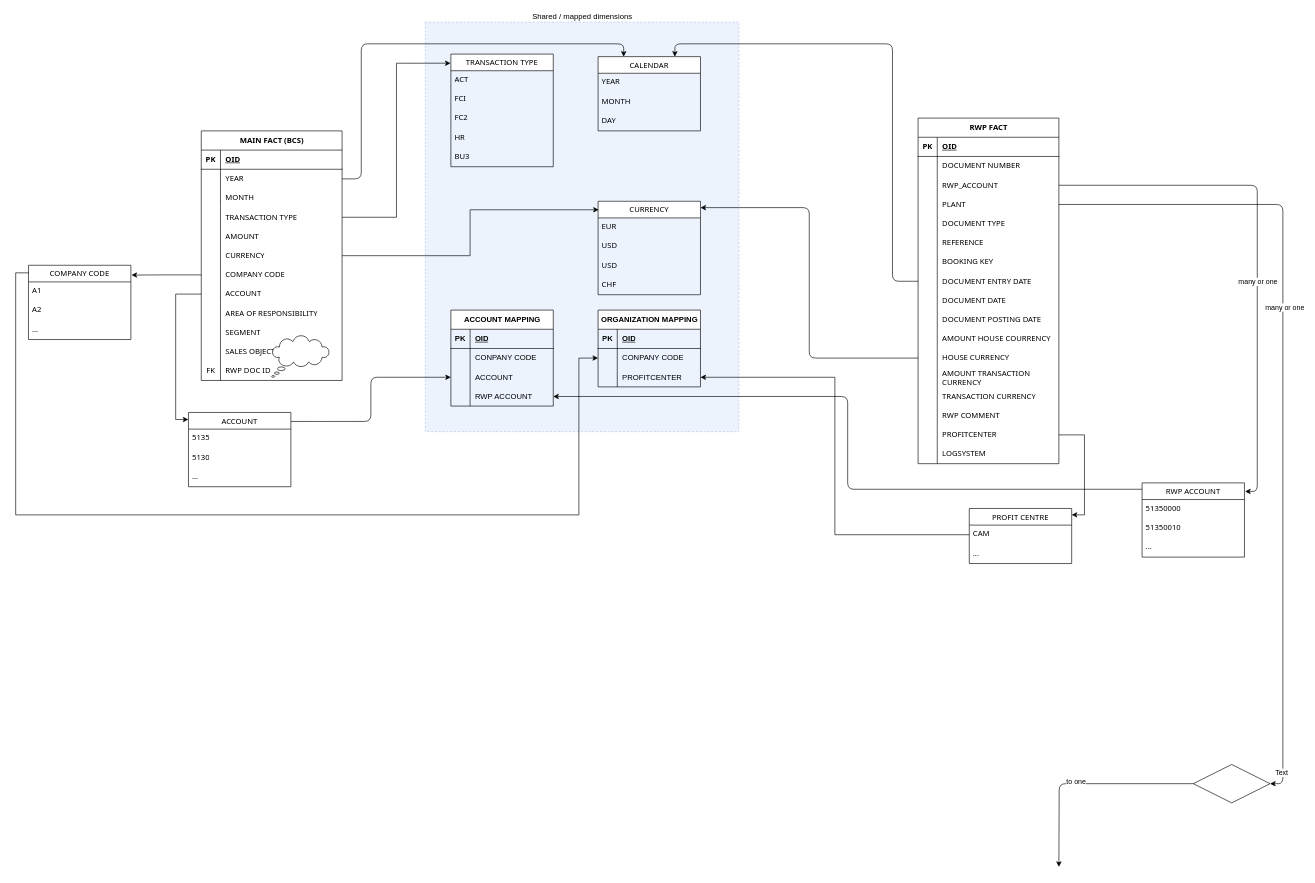
Some shapes in this 1315 by 883 pixel diagram are drawn without their labels. Here are the shapes that lost their labels. From the top down, the centre of each, then its label:
the point at 300,356: unclear if this is available on BCS
the point at 1231,783: PLANT to COMPANY CODE
